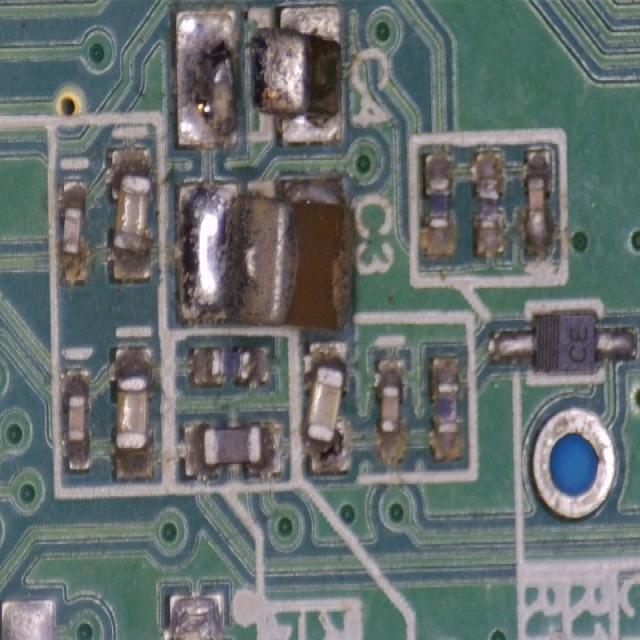Incorrect_installation: (175, 173, 357, 332), (174, 3, 344, 150), (304, 340, 351, 478)
